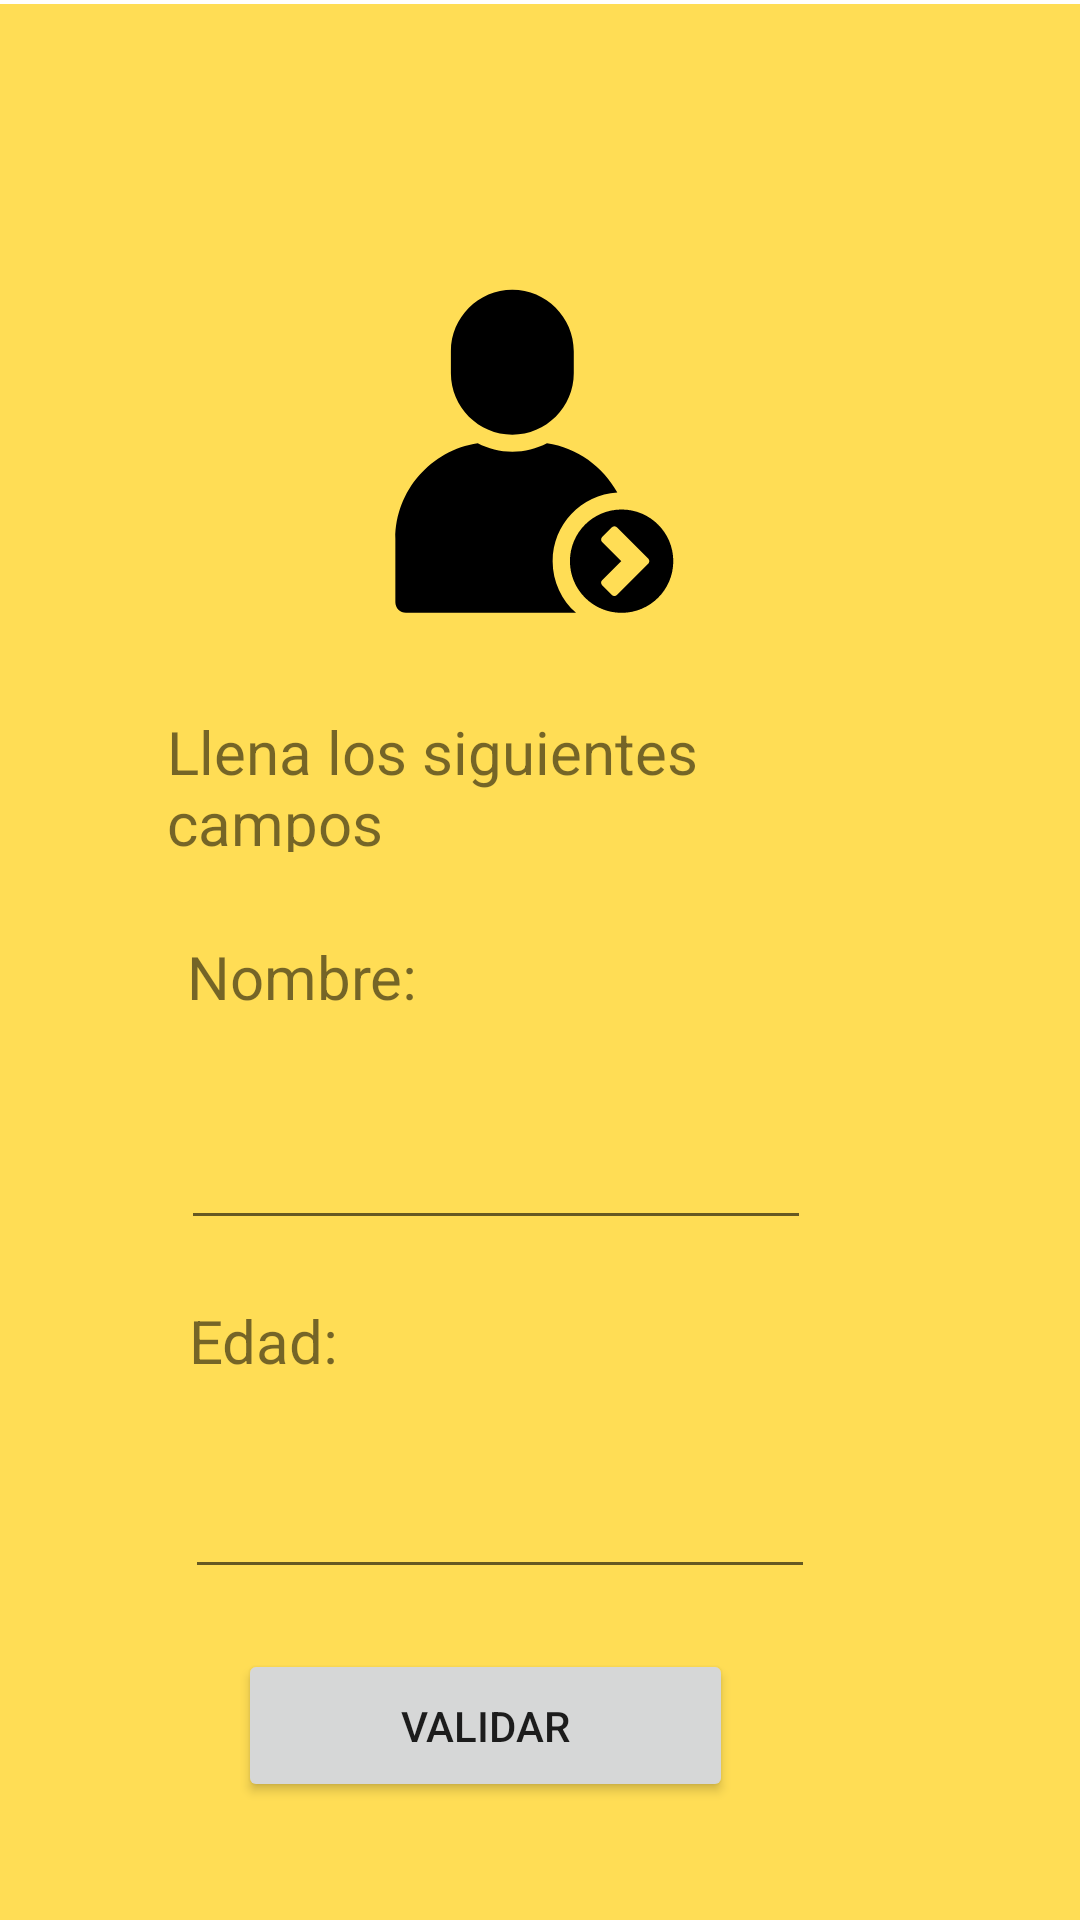

Icons on this 1080×1920 Android screen, each with its box as [x1, y1, x2, y2]:
user: [395, 289, 674, 613]
